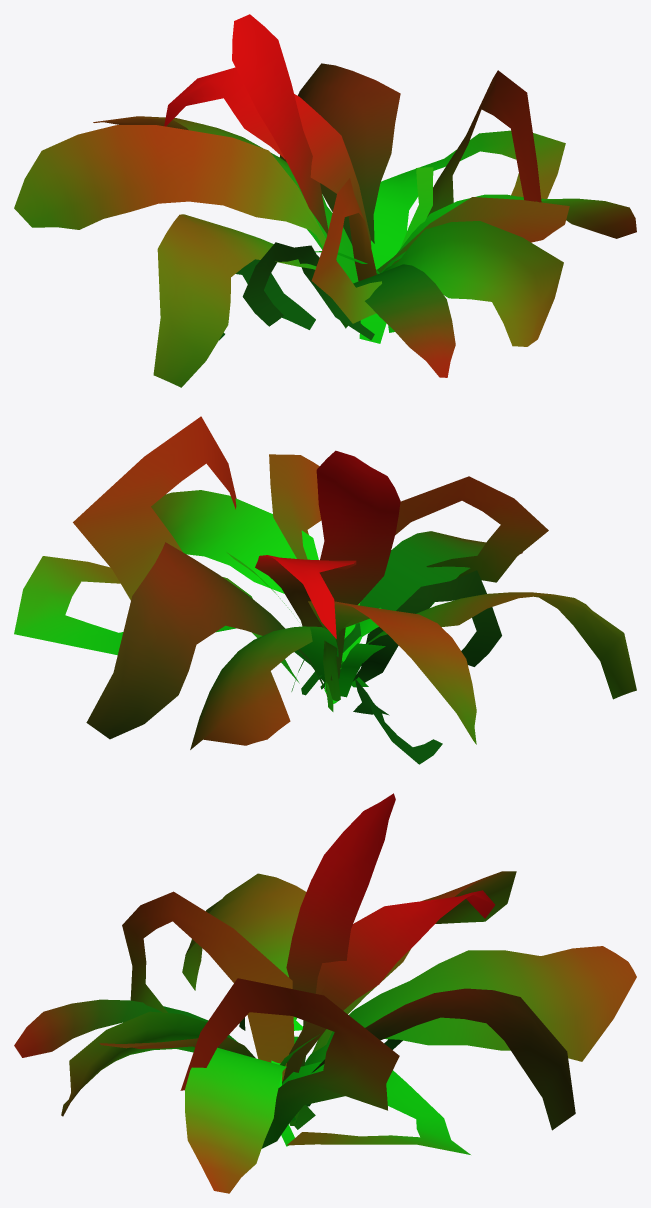
Rendered from Fern_LOD0_Var6_rmAsg.fbx.
3 views of the same model, one above another, from view 1: azimuth 30°, elevation 25°; view 2: azimuth 150°, elevation 25°; view 3: azimuth 270°, elevation 25° (orthographic). The views are drawn at different scales.
Parts seen in each view (by area): view 1: _88cf_Var6_LOD0; view 2: _88cf_Var6_LOD0; view 3: _88cf_Var6_LOD0.
Part boxes in pixels (left/top/right/bottom): _88cf_Var6_LOD0: left=14, top=14, right=636, bottom=387; _88cf_Var6_LOD0: left=14, top=416, right=636, bottom=764; _88cf_Var6_LOD0: left=14, top=793, right=636, bottom=1193.
Bounding box in the file's own units: 167 × 94.99 × 176.
